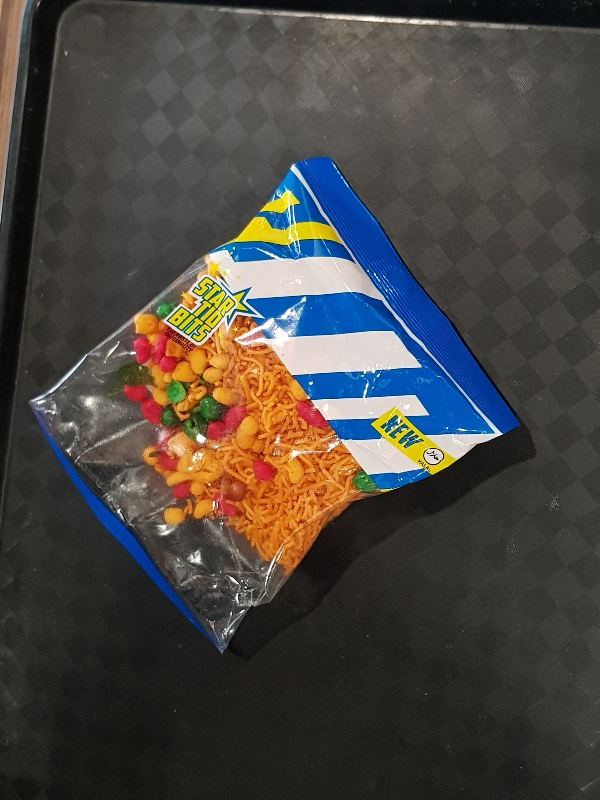Star Tidbits Mixer: (27, 153, 523, 655)
